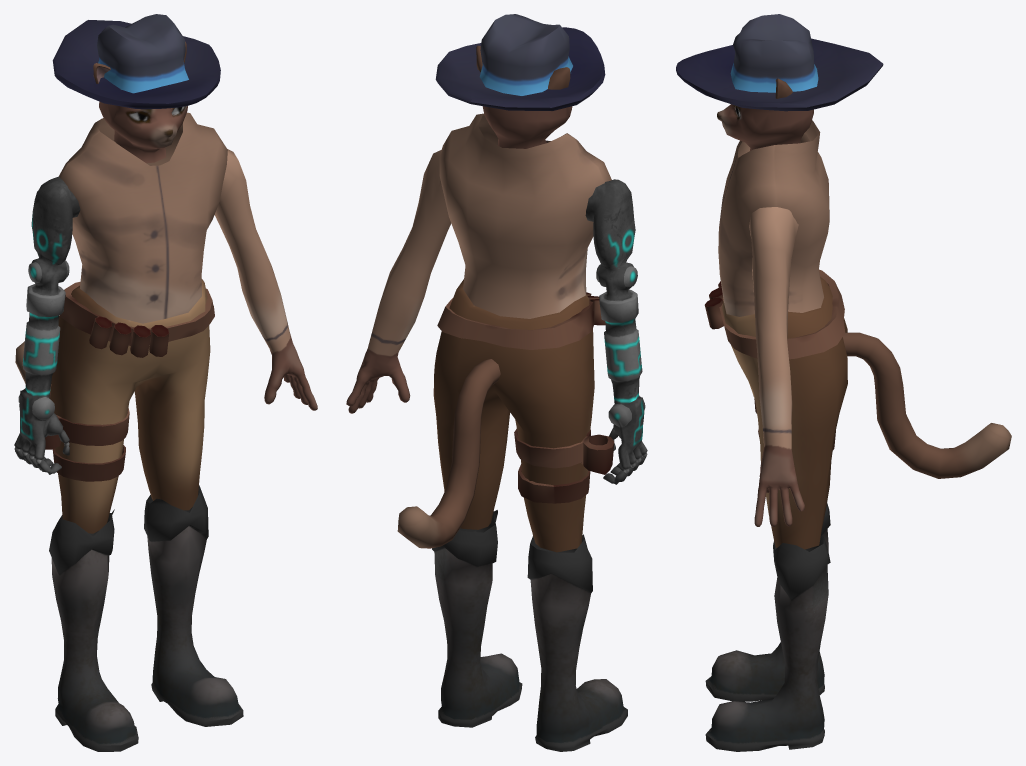
Rendered from PlayerTest@Hip Hop Dancing_v1.fbx.
3 views of the same model, side by side, from view 1: azimuth 30°, elevation 25°; view 2: azimuth 150°, elevation 25°; view 3: azimuth 270°, elevation 25° (orthographic).
Visible parts, largest first — view 1: Cube; view 2: Cube; view 3: Cube.
Boxes of the visible parts, left/top/right/bottom form: Cube: left=14, top=14, right=317, bottom=751; Cube: left=346, top=14, right=647, bottom=751; Cube: left=676, top=14, right=1011, bottom=751.
Bounding box in the file's own units: 0.9186 × 0.9462 × 2.14.
1 material, 1 textured.
